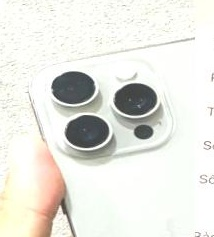scratch: (34, 60, 166, 153)
